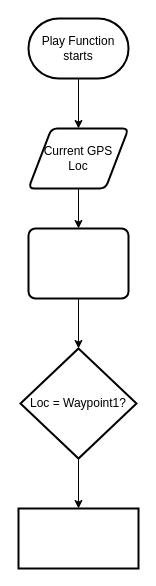
The diagram is 156 pixels wide and 586 high, and some of its shapes have lost their labels. Each missing label, with the box of its shape:
Play track 1: (17, 507, 139, 569)
Set Loc = GPS location: (27, 227, 129, 299)
